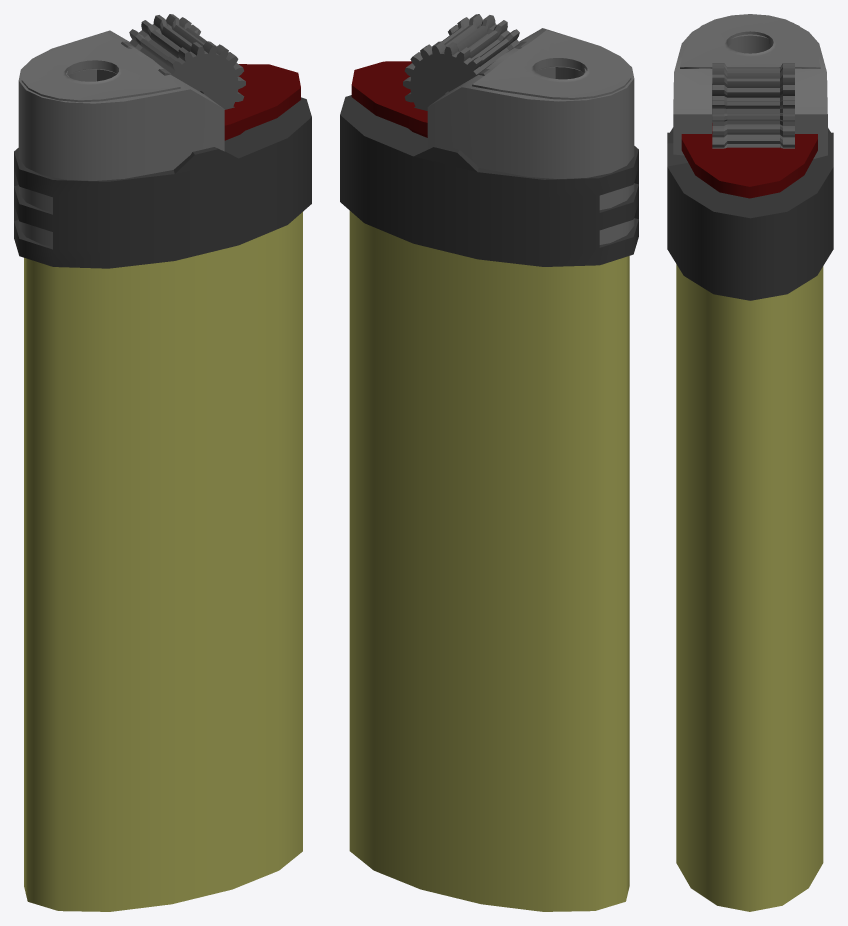
File: Lighter.fbx
3 renders of one model, left to right at view 1: azimuth 30°, elevation 25°; view 2: azimuth 150°, elevation 25°; view 3: azimuth 270°, elevation 25°, orthographic. The views are drawn at different scales.
Visible parts, largest first — view 1: pCylinder1, pCylinder3, pPipe1, pPipe2, pGear1, pCylinder2; view 2: pCylinder1, pCylinder3, pPipe1, pPipe2, pGear1, pCylinder2; view 3: pCylinder1, pCylinder3, pGear1, pPipe1, pCylinder2, pPipe2.
Part boxes in pixels (bbox=[...]): pCylinder1: bbox=[24, 212, 302, 911]; pCylinder3: bbox=[14, 97, 311, 268]; pPipe1: bbox=[18, 30, 224, 246]; pPipe2: bbox=[21, 32, 180, 102]; pGear1: bbox=[121, 14, 245, 109]; pCylinder2: bbox=[224, 64, 300, 137]; pCylinder1: bbox=[349, 211, 629, 911]; pCylinder3: bbox=[340, 95, 638, 266]; pPipe1: bbox=[427, 28, 634, 244]; pPipe2: bbox=[472, 30, 631, 99]; pGear1: bbox=[403, 14, 528, 110]; pCylinder2: bbox=[351, 61, 427, 134]; pCylinder1: bbox=[676, 264, 823, 911]; pCylinder3: bbox=[667, 127, 833, 300]; pGear1: bbox=[712, 63, 794, 148]; pPipe1: bbox=[673, 27, 827, 158]; pCylinder2: bbox=[681, 123, 817, 198]; pPipe2: bbox=[680, 14, 820, 68].
Bounding box in the file's own units: 3.45 × 9.53 × 1.82.
